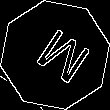M_SW: (22, 21, 88, 89)
